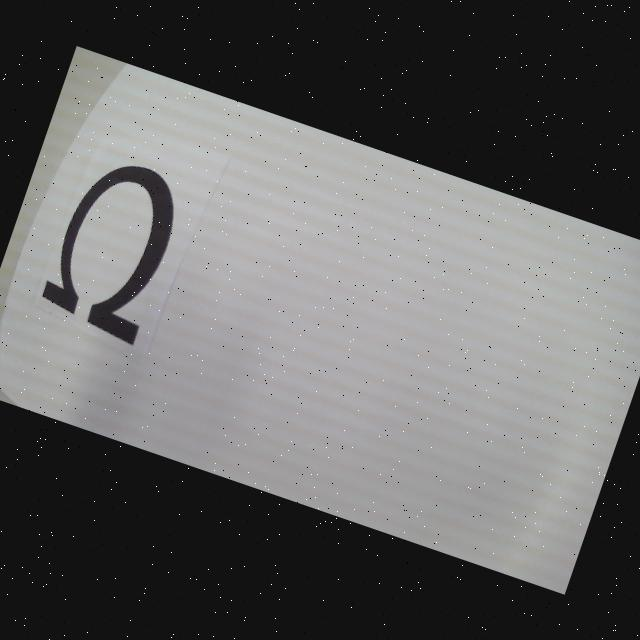OMEGA: (35, 149, 190, 346)
